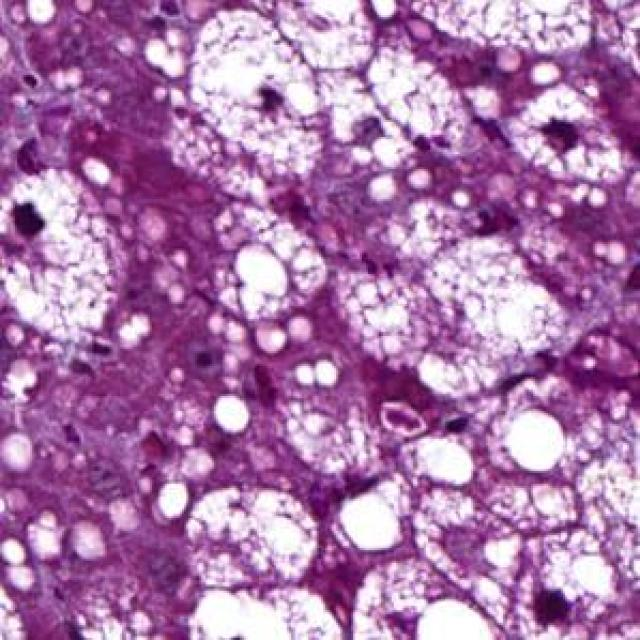ballooning: (11, 165, 132, 351), (188, 7, 321, 156), (180, 484, 323, 595), (503, 84, 627, 190)
